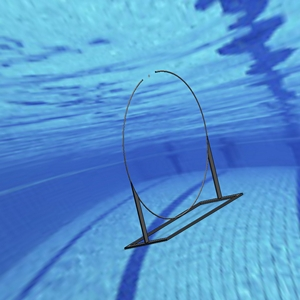circle: (119, 68, 244, 247)
